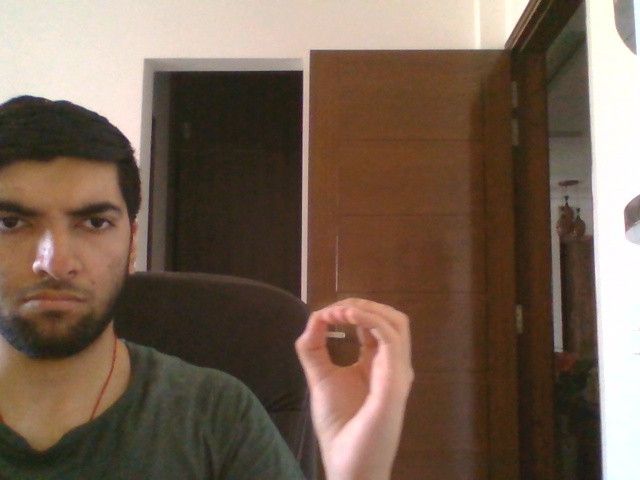LetterO: (291, 295, 417, 477)
